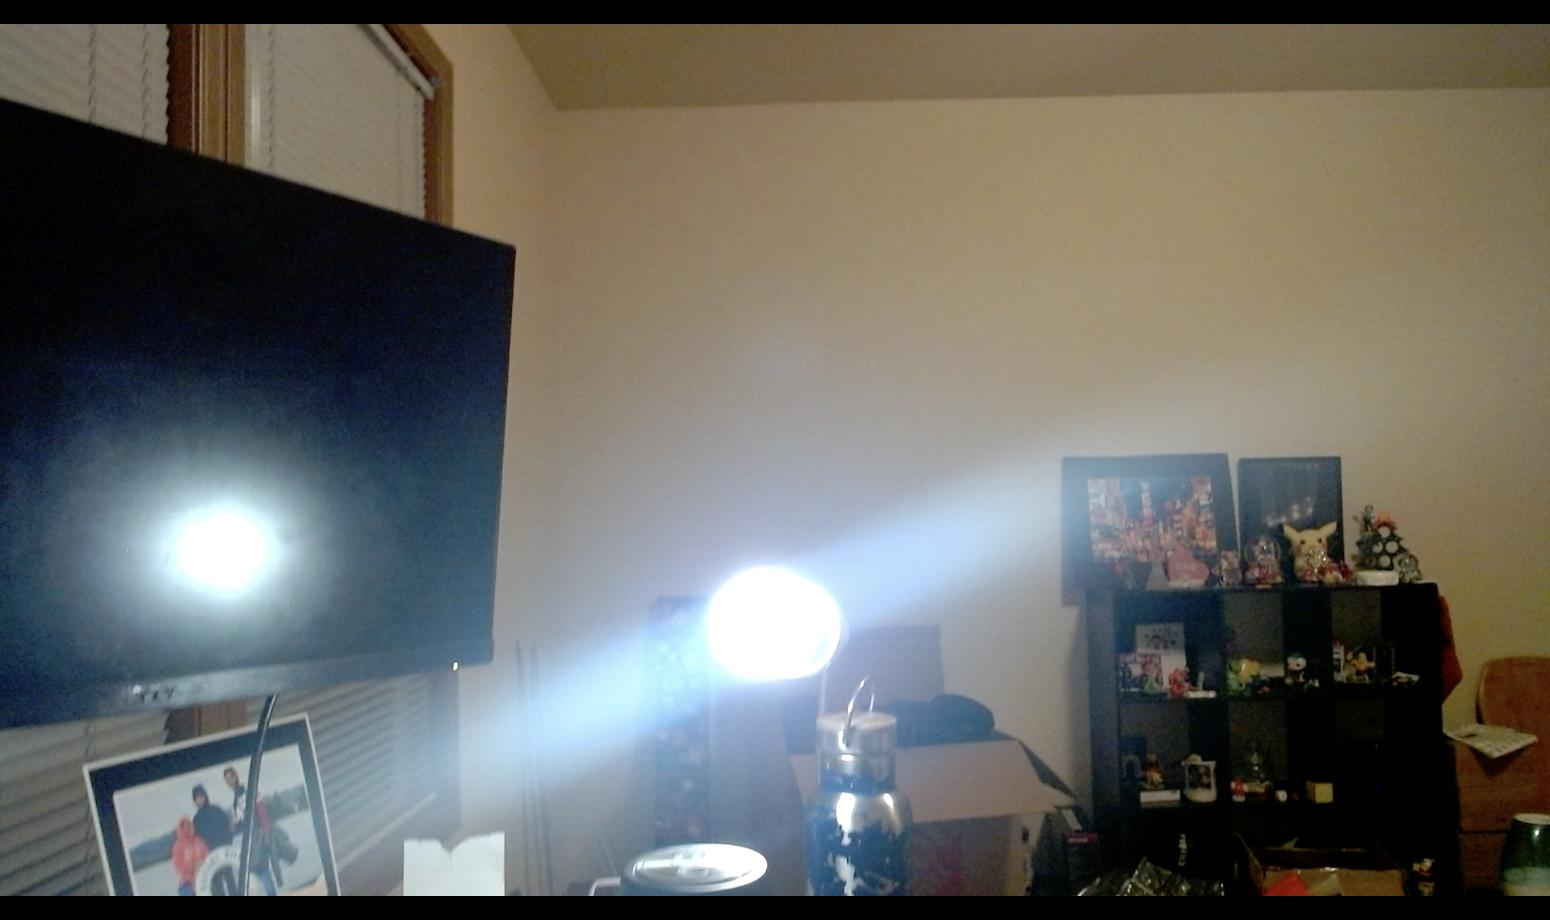TubeLight: (703, 563, 837, 681)
